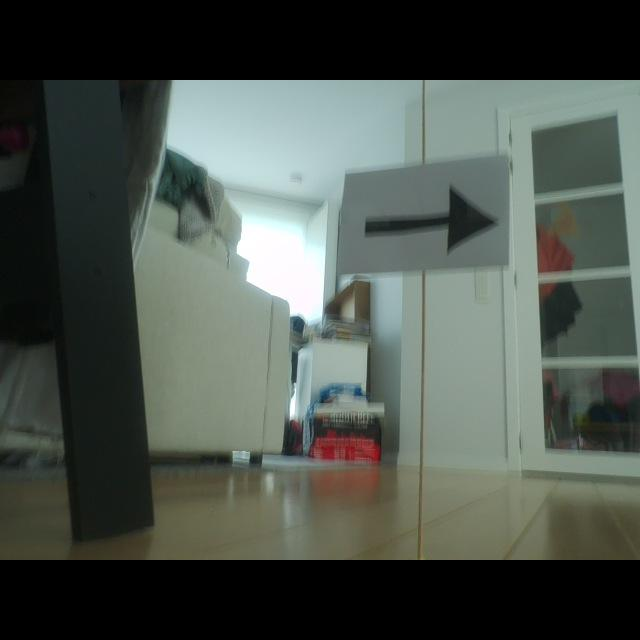jobbra_nyil: (365, 187, 496, 253)
